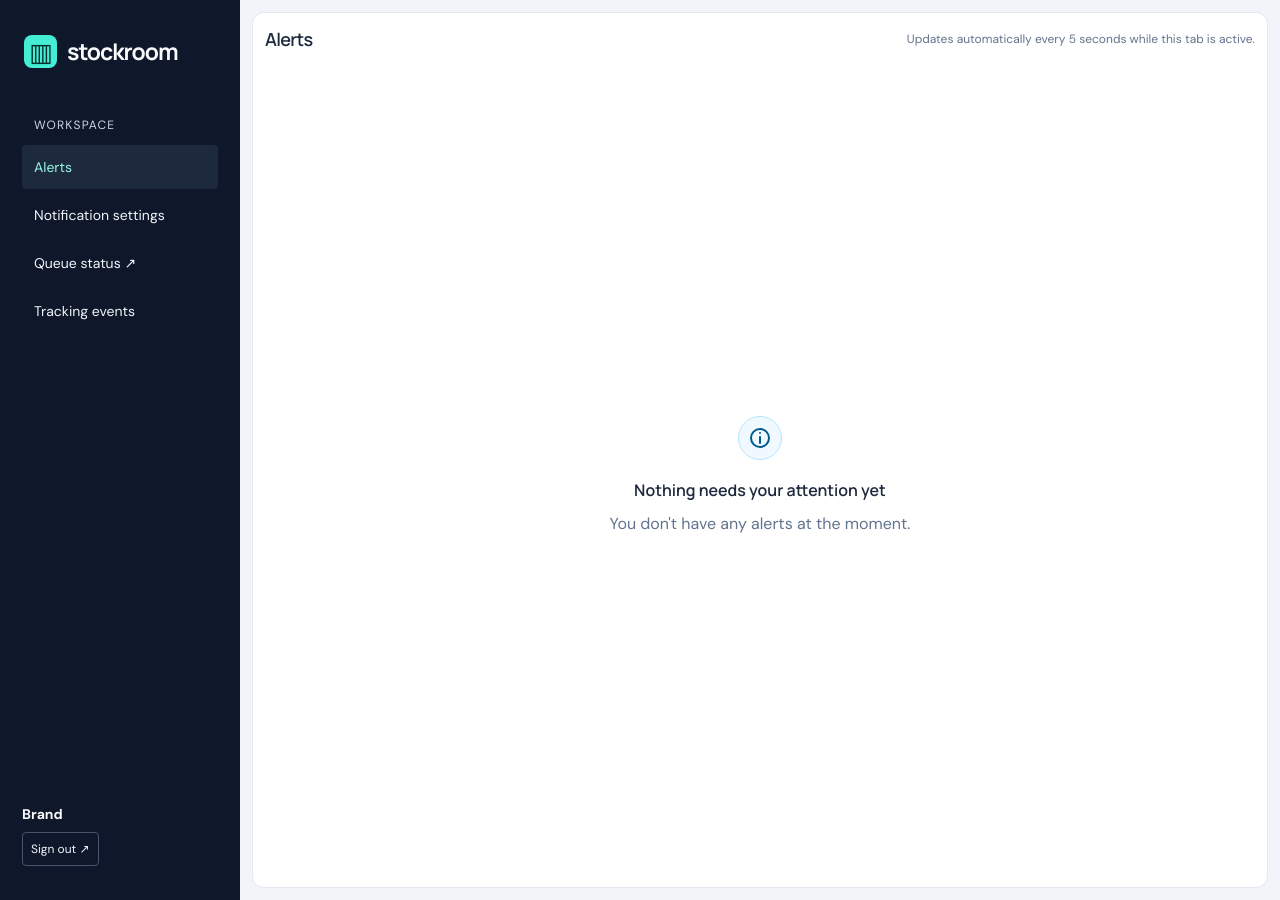
Test: opens tracking events from the sidebar and paginates inventory and prices
Click the link "Tracking events" at x=85, y=310, box 34,302 -> 135,320
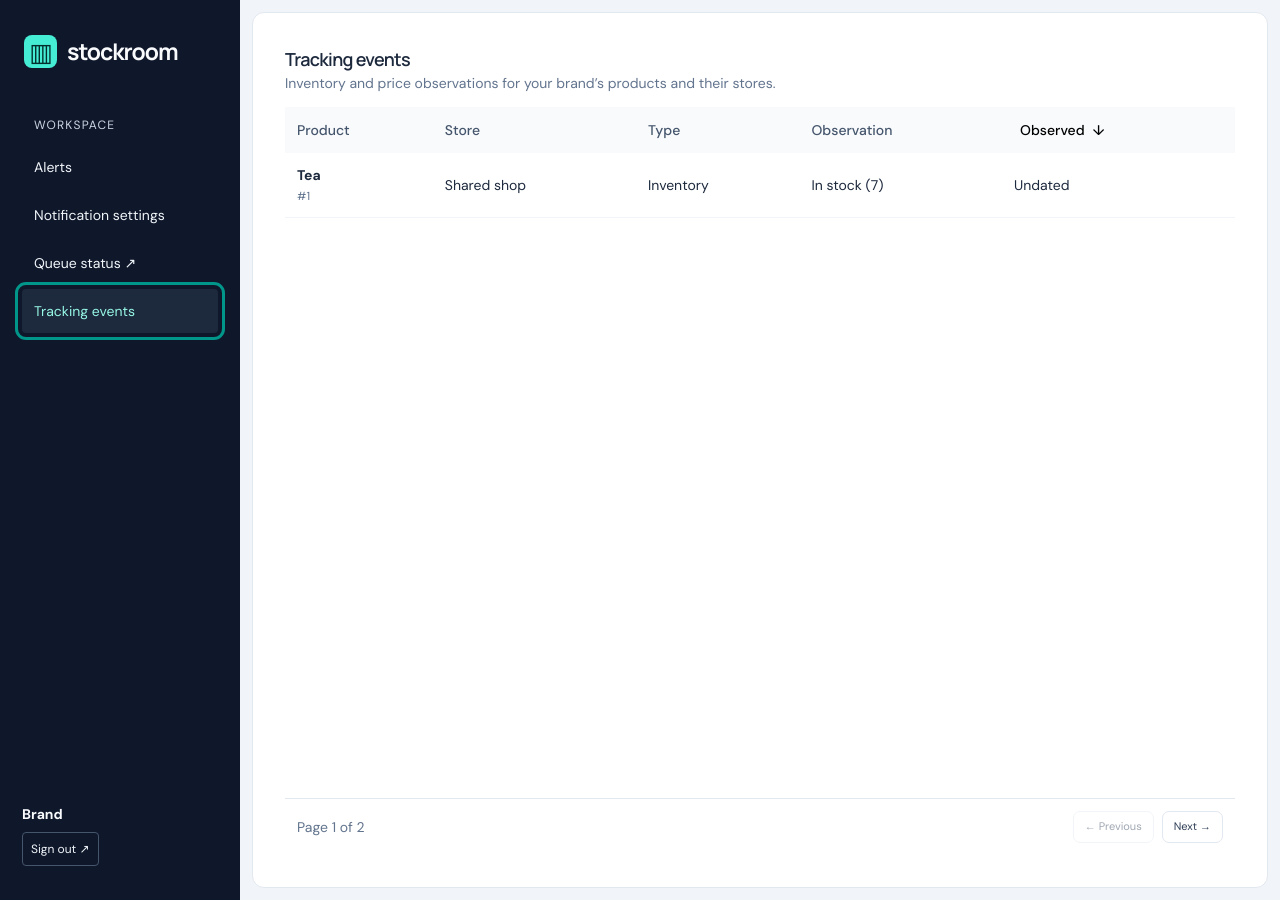
Result: the text "In stock (7)" is shown at 800,153 -> 1002,218
Result: the text "Shared shop" is shown at 433,153 -> 636,218
Result: the text "Undated" is shown at 1002,153 -> 1235,218
Click the button "Next →" at x=1192, y=827, box 1162,811 -> 1223,843
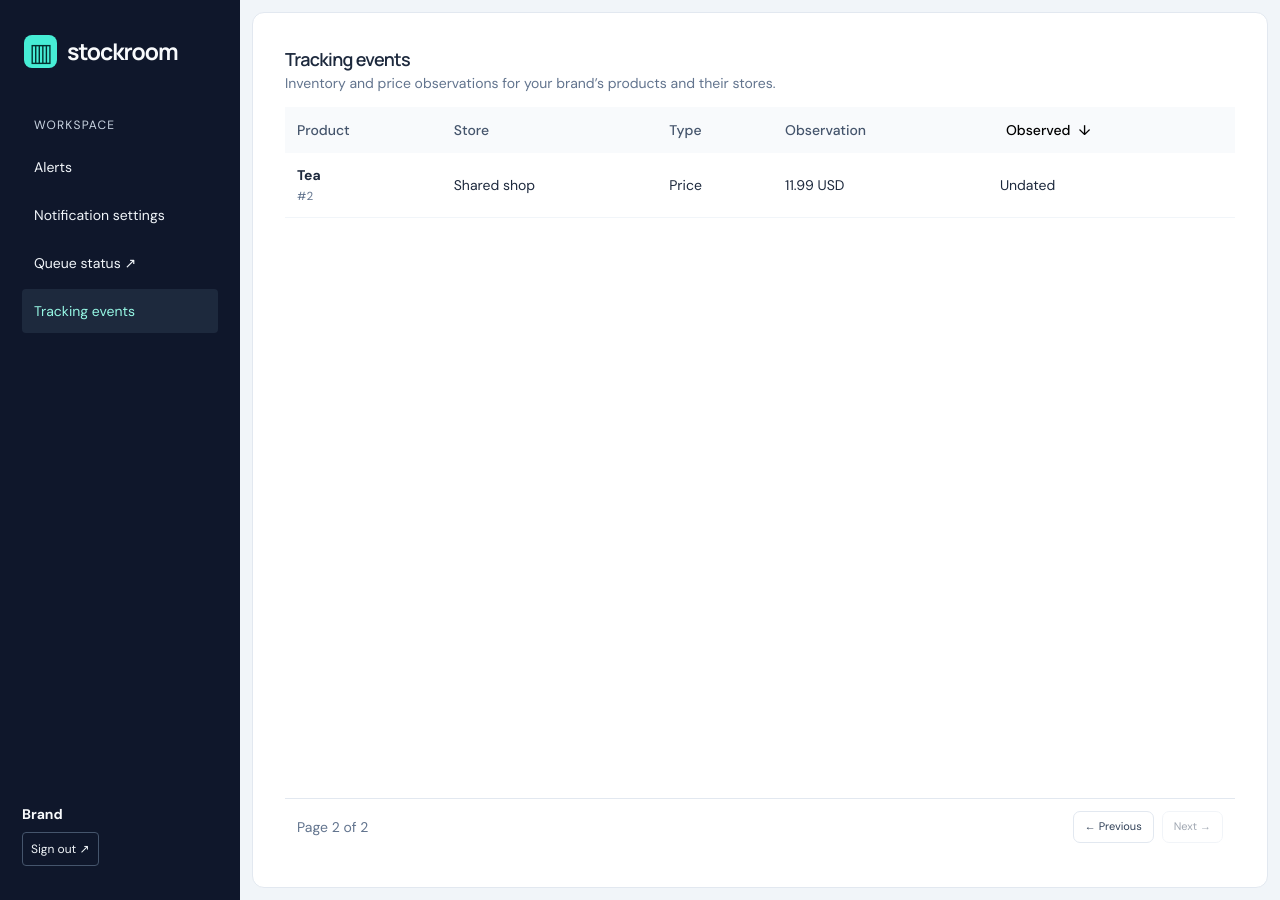
Result: the text "11.99 USD" is shown at 773,153 -> 988,218
Result: the button "Next →" is disabled at 1162,811 -> 1223,843
